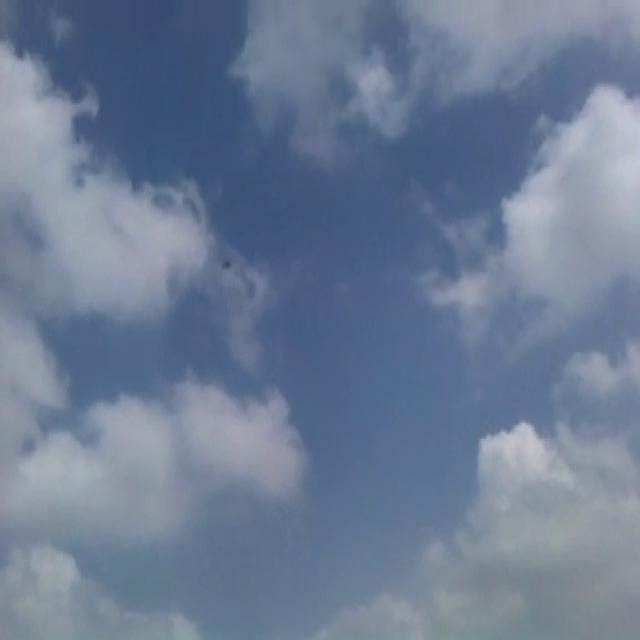drone: (221, 252, 231, 274)
